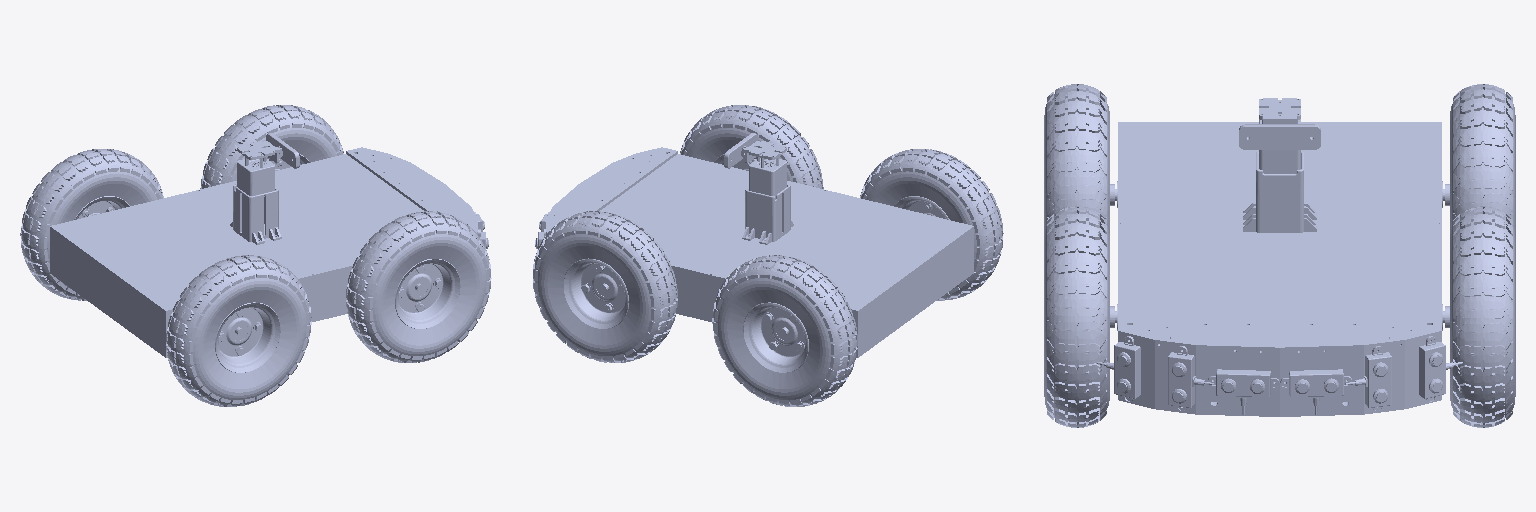
The robot description file, URDF, robot "office_bot_v5":
<?xml version="1.0" encoding="utf-8"?>
<robot name="office_bot_v5" xmlns:xacro="http://ros.org/wiki/xacro">
  

  <link name="base_footprint"/>
  <joint name="base_joint" type="fixed">
    <parent link="base_footprint"/>         
    <child link="base_link"/>
    <axis xyz="0 0 0.09" /> 
  </joint>
 
  <link
    name="base_link">
    <inertial>
      <origin
        xyz="0.000157790971551053 9.33441173045502E-06 0.0509900839810337"
        rpy="0 0 0" />
      <mass
        value="2.25648076210803" />
      <inertia
        ixx="0.0326718095829946"
        ixy="-7.95237730324876E-08"
        ixz="-5.71357736305774E-05"
        iyy="0.0631434876567026"
        iyz="-1.91661931663327E-07"
        izz="0.0939522836846534" />
    </inertial>
    <visual>
      <origin
        xyz="0 0 0"
        rpy="0 0 0" />
      <geometry>
        <mesh
          filename="package://robot_model/meshes/base_link.STL" />
      </geometry>
      <material
        name="">
        <color
          rgba="0.792156862745098 0.819607843137255 0.933333333333333 1" />
      </material>
    </visual>
    <collision>
      <origin
        xyz="0 0 0"
        rpy="0 0 0" />
      <geometry>
        <mesh
          filename="package://robot_model/meshes/base_link.STL" />
      </geometry>
    </collision>
  </link>



  <link
    name="Front_Left_Wheel">
    <inertial>
      <origin
        xyz="-0.114040591585263 -0.244996930631141 0.0063401584657487"
        rpy="0 0 0" />
      <mass
        value="5.28505059163165" />
      <inertia
        ixx="0.179429225133595"
        ixy="1.06457315837156E-06"
        ixz="0.000770729972889602"
        iyy="0.229133288045741"
        iyz="-9.57901409950915E-07"
        izz="0.370750531394507" />
    </inertial>
    <visual>
      <origin
        xyz="0 0 0"
        rpy="0 0 0" />
      <geometry>
        <mesh
          filename="package://robot_model/meshes/Front_Left_Wheel.STL" />
      </geometry>
      <material
        name="">
        <color
          rgba="0.792156862745098 0.819607843137255 0.933333333333333 1" />
      </material>
    </visual>
    <collision>
      <origin
        xyz="0 0 0"
        rpy="0 0 0" />
      <geometry>
        <mesh
          filename="package://robot_model/meshes/Front_Left_Wheel.STL" />
      </geometry>
    </collision>
  </link>
  <joint
    name="Front_Left_Joint"
    type="continuous">
    <origin
      xyz="0.17 0.245 0.0425"
      rpy="0 0 0" />
    <parent
      link="base_link" />
    <child
      link="Front_Left_Wheel" />
    <axis
      xyz="0 1 0" />
    <limit
      effort="1"
      velocity="1" />
  </joint>

  <link
    name="Front_Right_Wheel">
    <inertial>
      <origin
        xyz="-0.13085334461148 0.236451184673006 0.00634015846575242"
        rpy="0 0 0" />
      <mass
        value="5.28505059163165" />
      <inertia
        ixx="0.179670935235411"
        ixy="-0.00345768007009302"
        ixz="0.000768919333237534"
        iyy="0.228891577943926"
        iyz="5.28078371074435E-05"
        izz="0.370750531394507" />
    </inertial>
    <visual>
      <origin
        xyz="0 0 0"
        rpy="0 0 0" />
      <geometry>
        <mesh
          filename="package://robot_model/meshes/Front_Right_Wheel.STL" />
      </geometry>
      <material
        name="">
        <color
          rgba="0.792156862745098 0.819607843137255 0.933333333333333 1" />
      </material>
    </visual>
    <collision>
      <origin
        xyz="0 0 0"
        rpy="0 0 0" />
      <geometry>
        <mesh
          filename="package://robot_model/meshes/Front_Right_Wheel.STL" />
      </geometry>
    </collision>
  </link>

  <joint
    name="Front_Right_Joint"
    type="continuous">
    <origin
      xyz="0.17 -0.245 0.0425"
      rpy="0 0 -0.069813" />
    <parent
      link="base_link" />
    <child
      link="Front_Right_Wheel" />
    <axis
      xyz="-0.069756 0.99756 0" />
    <limit
      effort="1"
      velocity="1" />
  </joint>

  <link
    name="Back_Left_Wheel">
    <inertial>
      <origin
        xyz="0.225959408414736 -0.244996930631141 0.00634015846575092"
        rpy="0 0 0" />
      <mass
        value="5.28505059163165" />
      <inertia
        ixx="0.179429225133595"
        ixy="1.06457315840469E-06"
        ixz="0.000770729972890291"
        iyy="0.229133288045741"
        iyz="-9.57901408952795E-07"
        izz="0.370750531394507" />
    </inertial>
    <visual>
      <origin
        xyz="0 0 0"
        rpy="0 0 0" />
      <geometry>
        <mesh
          filename="package://robot_model/meshes/Back_Left_Wheel.STL" />
      </geometry>
      <material
        name="">
        <color
          rgba="0.792156862745098 0.819607843137255 0.933333333333333 1" />
      </material>
    </visual>
    <collision>
      <origin
        xyz="0 0 0"
        rpy="0 0 0" />
      <geometry>
        <mesh
          filename="package://robot_model/meshes/Back_Left_Wheel.STL" />
      </geometry>
    </collision>
  </link>

  <joint
    name="Back_Left_Joint"
    type="continuous">
    <origin
      xyz="-0.17 0.245 0.0425"
      rpy="0 0 0" />
    <parent
      link="base_link" />
    <child
      link="Back_Left_Wheel" />
    <axis
      xyz="0 1 0" />
    <limit
      effort="1"
      velocity="1" />
  </joint>

  <link
    name="Back_Right_Wheel">
    <inertial>
      <origin
        xyz="0.225959408414736 0.245003069368859 0.00634015846575092"
        rpy="0 0 0" />
      <mass
        value="5.28505059163165" />
      <inertia
        ixx="0.179429225133595"
        ixy="1.06457315840122E-06"
        ixz="0.000770729972890271"
        iyy="0.229133288045741"
        iyz="-9.57901408962444E-07"
        izz="0.370750531394507" />
    </inertial>
    <visual>
      <origin
        xyz="0 0 0"
        rpy="0 0 0" />
      <geometry>
        <mesh
          filename="package://robot_model/meshes/Back_Right_Wheel.STL" />
      </geometry>
      <material
        name="">
        <color
          rgba="0.792156862745098 0.819607843137255 0.933333333333333 1" />
      </material>
    </visual>
    <collision>
      <origin
        xyz="0 0 0"
        rpy="0 0 0" />
      <geometry>
        <mesh
          filename="package://robot_model/meshes/Back_Right_Wheel.STL" />
      </geometry>
    </collision>
  </link>

  <joint
    name="Back_Right_Joint"
    type="continuous">
    <origin
      xyz="-0.17 -0.245 0.0425"
      rpy="0 0 0" />
    <parent
      link="base_link" />
    <child
      link="Back_Right_Wheel" />
    <axis
      xyz="0 1 0" />
    <limit
      effort="1"
      velocity="1" />
  </joint>

  <link
    name="IMU">
    <inertial>
      <origin
        xyz="0.00113549657598566 -0.000105430027528913 0.209213248754566"
        rpy="0 0 0" />
      <mass
        value="0.000983130183652041" />
      <inertia
        ixx="2.72780814792229E-08"
        ixy="1.86463715351975E-11"
        ixz="1.83135757568983E-11"
        iyy="4.80453464098758E-08"
        iyz="1.81575171892172E-12"
        izz="7.48563776021964E-08" />
    </inertial>
    <visual>
      <origin
        xyz="0 0 0"
        rpy="0 0 0" />
      <geometry>
        <mesh
          filename="package://robot_model/meshes/IMU.STL" />
      </geometry>
      <material
        name="">
        <color
          rgba="0.792156862745098 0.819607843137255 0.933333333333333 1" />
      </material>
    </visual>
    <collision>
      <origin
        xyz="0 0 0"
        rpy="0 0 0" />
      <geometry>
        <mesh
          filename="package://robot_model/meshes/IMU.STL" />
      </geometry>
    </collision>
  </link>
  
  <joint
    name="IMU_Joint"
    type="fixed">
    <origin
      xyz="0 0 0"
      rpy="0 0 0" />
    <parent
      link="base_link" />
    <child
      link="IMU" />
    <axis
      xyz="0 0 0" />
  </joint>

  <link
    name="Lidar">
    <inertial>
      <origin
        xyz="-0.00250564606731601 -0.000358254838442873 -0.000933909032619307"
        rpy="0 0 0" />
      <mass
        value="0.0350818393932829" />
      <inertia
        ixx="1.94316849912593E-05"
        ixy="9.09403968289254E-10"
        ixz="4.07022704038889E-08"
        iyy="1.93203926330964E-05"
        iyz="-8.90119393351044E-10"
        izz="3.70184540043927E-05" />
    </inertial>
    <visual>
      <origin
        xyz="0 0 0"
        rpy="0 0 0" />
      <geometry>
        <mesh
          filename="package://robot_model/meshes/Lidar.STL" />
      </geometry>
      <material
        name="">
        <color
          rgba="0 0 0 1" />
      </material>
    </visual>
    <collision>
      <origin
        xyz="0 0 0"
        rpy="0 0 0" />
      <geometry>
        <mesh
          filename="package://robot_model/meshes/Lidar.STL" />
      </geometry>
    </collision>
  </link>
  <joint
    name="Lidar_Joint"
    type="fixed">
    <origin
      xyz="1.8375E-05 0.00035694 0.25069"
      rpy="0 0 0" />
    <parent
      link="base_link" />
    <child
      link="Lidar" />
    <axis
      xyz="0 0 0" />
  </joint>

  <link
    name="UT_Sensors">
    <inertial>
      <origin
        xyz="0.318041699609775 0 0.044339731118068"
        rpy="0 0 0" />
      <mass
        value="0.922899643082519" />
      <inertia
        ixx="0.00306764940158585"
        ixy="3.45695321598161E-19"
        ixz="6.17219259427938E-06"
        iyy="0.00110431566704591"
        iyz="-4.61330848559452E-20"
        izz="0.00303507631607071" />
    </inertial>
    <visual>
      <origin
        xyz="0 0 0"
        rpy="0 0 0" />
      <geometry>
        <mesh
          filename="package://robot_model/meshes/UT_Sensors.STL" />
      </geometry>
      <material
        name="">
        <color
          rgba="0.792156862745098 0.819607843137255 0.933333333333333 1" />
      </material>
    </visual>
    <collision>
      <origin
        xyz="0 0 0"
        rpy="0 0 0" />
      <geometry>
        <mesh
          filename="package://robot_model/meshes/UT_Sensors.STL" />
      </geometry>
    </collision>
  </link>

  <joint
    name="UT_Sensor_Link"
    type="fixed">
    <origin
      xyz="0 0 0"
      rpy="0 0 0" />
    <parent
      link="base_link" />
    <child
      link="UT_Sensors" />
    <axis
      xyz="0 0 0" />
  </joint>

  <link
    name="Oak_Camera">
    <inertial>
      <origin
        xyz="-0.00988366352733516 -0.000160535062960543 0.000346832232842542"
        rpy="0 0 0" />
      <mass
        value="0.0292147030871606" />
      <inertia
        ixx="2.40962947711408E-05"
        ixy="1.78527427973918E-09"
        ixz="4.11566760253512E-08"
        iyy="2.65477152353447E-06"
        iyz="-8.43609647664925E-08"
        izz="2.23729172775046E-05" />
    </inertial>
    <visual>
      <origin
        xyz="0 0 0"
        rpy="0 0 0" />
      <geometry>
        <mesh
          filename="package://robot_model/meshes/Oak_Camera.STL" />
      </geometry>
      <material
        name="">
        <color
          rgba="0.792156862745098 0.819607843137255 0.933333333333333 1" />
      </material>
    </visual>
    <collision>
      <origin
        xyz="0 0 0"
        rpy="0 0 0" />
      <geometry>
        <mesh
          filename="package://robot_model/meshes/Oak_Camera.STL" />
      </geometry>
    </collision>
  </link>

  <joint
    name="Oak_Camera"
    type="fixed">
    <origin
      xyz="0.076898 0 0.22075"
      rpy="0 0 0" />
    <parent
      link="base_link" />
    <child
      link="Oak_Camera" />
    <axis
      xyz="0 0 0" />
  </joint>
<!--
  <gazebo>
    <plugin name="wheel_drive_controller" filename="libgazebo_ros_diff_drive.so">
-->
      <!-- wheels -->
<!--
      <num_wheel_pairs>2</num_wheel_pairs>

      <left_joint>Back_Left_Joint</left_joint>
      <left_joint>Front_Left_Joint</left_joint>
      <right_joint>Front_Right_Joint</right_joint>
      <right_joint>Back_Right_Joint</right_joint>
-->

      <!-- kinematics -->
<!--
      <wheel_separation>0.49</wheel_separation>
      <wheel_diameter>0.130</wheel_diameter>
      <max_wheel_torque>20.0</max_wheel_torque>
      <max_wheel_acceleration>10.0</max_wheel_acceleration>
-->
      <!-- odometry  --> 
<!--
      <odometry_source>world</odometry_source>
      <odometry_frame>odom</odometry_frame>
      <robot_base_frame>base_link</robot_base_frame>


      <publish_odom>true</publish_odom>
      <publish_odom_tf>true</publish_odom_tf>
      <update_rate>100.0</update_rate>
      
    </plugin>
  
  </gazebo>

  <ros2_control name="GazeboSystem" type="system">
    <transmission name="FrontLeftTransmission">
      <type>transmission_interface/SimpleTransmission</type>
      <joint name="Front_Left_Joint">
        <hardwareInterface>EffortJointInterface</hardwareInterface>
      </joint>
      <actuator name="FrontLeftMotor">
        <hardwareInterface>EffortJointInterface</hardwareInterface>
        <mechanicalReduction>50</mechanicalReduction>
      </actuator>
    </transmission>
    
    <transmission name="FrontRightTransmission">
      <type>transmission_interface/SimpleTransmission</type>
      <joint name="Front_Right_Joint">
        <hardwareInterface>EffortJointInterface</hardwareInterface>
      </joint>
      <actuator name="FrontRightMotor">
        <hardwareInterface>EffortJointInterface</hardwareInterface>
        <mechanicalReduction>50</mechanicalReduction>
      </actuator>
    </transmission>
    
    <transmission name="BackLeftTransmission">
      <type>transmission_interface/SimpleTransmission</type>
      <joint name="Back_Left_Joint">
        <hardwareInterface>EffortJointInterface</hardwareInterface>
      </joint>
      <actuator name="BackLeftMotor">
        <hardwareInterface>EffortJointInterface</hardwareInterface>
        <mechanicalReduction>50</mechanicalReduction>
      </actuator>
    </transmission>
    
    <transmission name="BackRightTransmission">
      <type>transmission_interface/SimpleTransmission</type>
      <joint name="Back_Right_Joint">
        <hardwareInterface>EffortJointInterface</hardwareInterface>
      </joint>
      <actuator name="BackRightMotor">
        <hardwareInterface>EffortJointInterface</hardwareInterface>
        <mechanicalReduction>50</mechanicalReduction>
      </actuator>
    </transmission>
    
    <hardware>
      <plugin>gazebo_ros2_control/GazeboSystem</plugin>
    </hardware>
  </ros2_control>
-->

</robot>

--- Render facts (derived) ---
The picture shows the robot from 3 angles, left to right: view 1: azimuth 30°, elevation 25°; view 2: azimuth 150°, elevation 25°; view 3: azimuth 270°, elevation 25°; orthographic projection.
Model office_bot_v5 with 10 links and 9 joints (4 continuous, 5 fixed), rooted at base_footprint, posed every joint at zero.
Visible links, largest first — view 1: base_link, Back_Right_Wheel, Front_Right_Wheel, Back_Left_Wheel, Front_Left_Wheel, UT_Sensors; view 2: base_link, Back_Left_Wheel, Front_Left_Wheel, Back_Right_Wheel, Front_Right_Wheel, UT_Sensors; view 3: base_link, UT_Sensors, Front_Left_Wheel, Front_Right_Wheel, Back_Right_Wheel, Back_Left_Wheel.
Link boxes in pixels (x1,y1,x2,y2): base_link: [50, 133, 423, 357]; Back_Right_Wheel: [166, 255, 311, 406]; Front_Right_Wheel: [346, 211, 491, 362]; Back_Left_Wheel: [20, 149, 163, 300]; Front_Left_Wheel: [200, 105, 343, 188]; UT_Sensors: [346, 147, 488, 248]; base_link: [600, 133, 973, 357]; Back_Left_Wheel: [712, 255, 857, 406]; Front_Left_Wheel: [533, 211, 677, 362]; Back_Right_Wheel: [860, 149, 1003, 300]; Front_Right_Wheel: [680, 105, 823, 188]; UT_Sensors: [535, 147, 677, 248]; base_link: [1110, 98, 1449, 330]; UT_Sensors: [1097, 320, 1462, 416]; Front_Left_Wheel: [1450, 206, 1515, 427]; Front_Right_Wheel: [1044, 206, 1109, 427]; Back_Right_Wheel: [1044, 84, 1109, 236]; Back_Left_Wheel: [1450, 84, 1515, 236].
Bounding box of the posed robot: 0.6738 × 0.5531 × 0.323 m (x, y, z).
Meshes: 9 distinct files referenced, 7 mesh visuals loaded (7 binary STL); not drawn: 2 (reference not matched to a file when rendering).